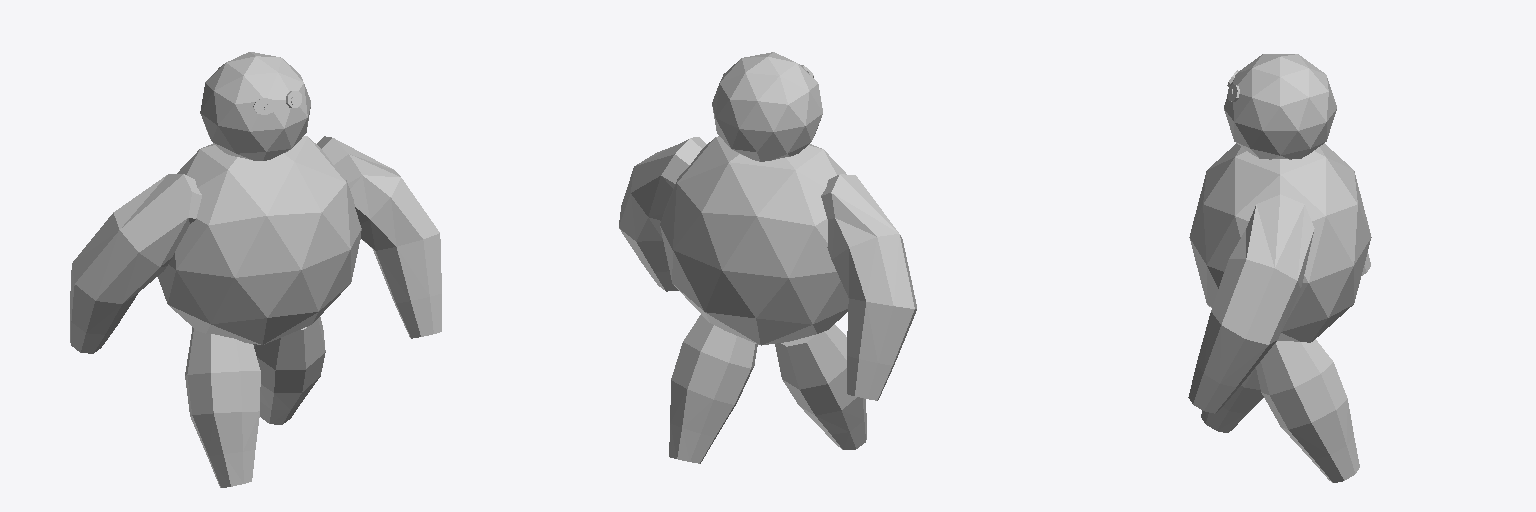
Rendered from bigboi_rigged_000003.obj.
3 renders of one model, left to right at view 1: azimuth 30°, elevation 25°; view 2: azimuth 150°, elevation 25°; view 3: azimuth 270°, elevation 25°, orthographic.
Parts seen in each view (by area): view 1: Cube; view 2: Cube; view 3: Cube.
Boxes of the visible parts, x1,y1,x2,y2 form: Cube: [70, 52, 441, 487]; Cube: [619, 52, 916, 463]; Cube: [1188, 54, 1371, 482].
Size of the model in its own units: 6.66 by 7.73 by 3.22.